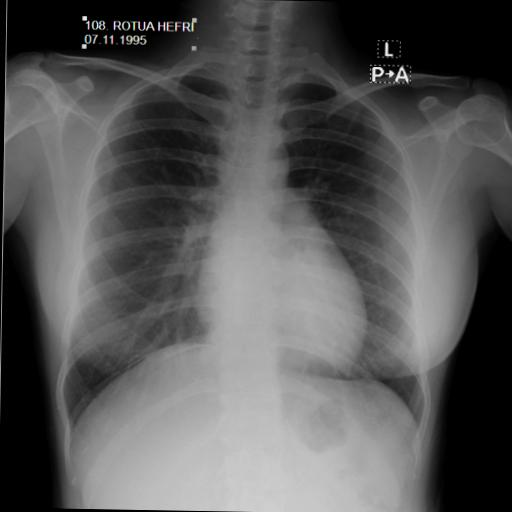normal: (48, 50, 440, 452)
